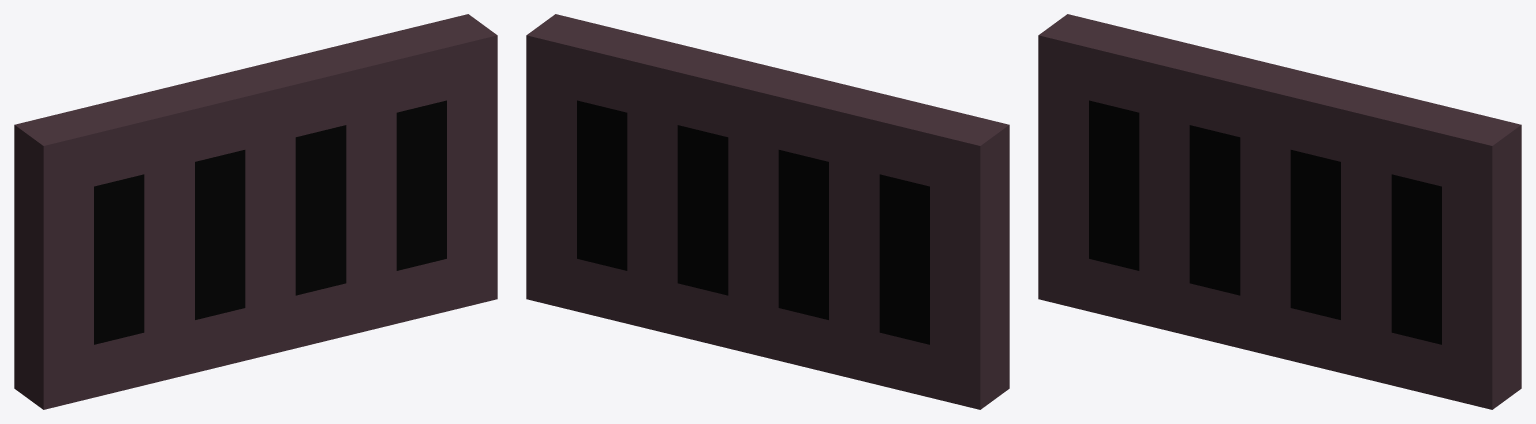
Rendered from wall_grate_b.obj.
The picture shows the model from 3 angles, left to right: view 1: azimuth 30°, elevation 25°; view 2: azimuth 150°, elevation 25°; view 3: azimuth 330°, elevation 25°; orthographic projection.
Size of the model in its own units: 0.9 by 0.5 by 0.1.
1 material, 1 textured.
